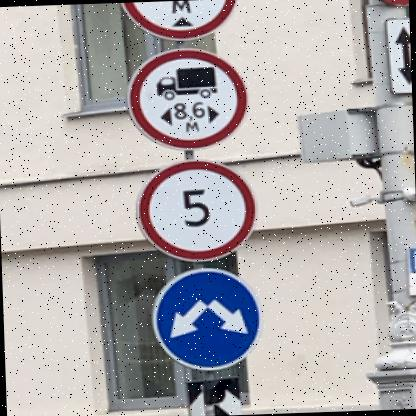speedlimit: (131, 156, 258, 262)
